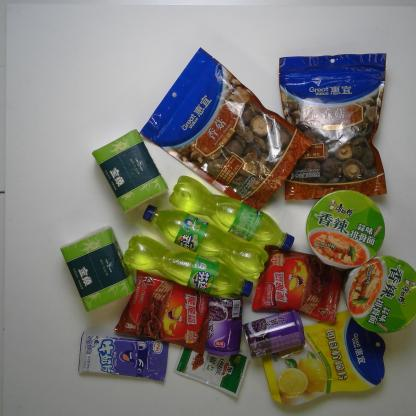Candy: (76, 330, 170, 384)
Canned Food: (241, 307, 305, 359), (206, 294, 244, 358)
Dessert: (112, 269, 212, 354), (250, 244, 344, 323)
Dried Food: (140, 48, 312, 214), (278, 52, 390, 201)
Dried Fruit: (262, 310, 387, 405)
Drink: (169, 175, 295, 256), (136, 205, 270, 278), (122, 234, 252, 299)
Instant Noodles: (306, 189, 385, 270), (344, 254, 415, 333)
Seasoner: (172, 336, 250, 396)
Tissue: (91, 129, 169, 216), (60, 226, 136, 314)
